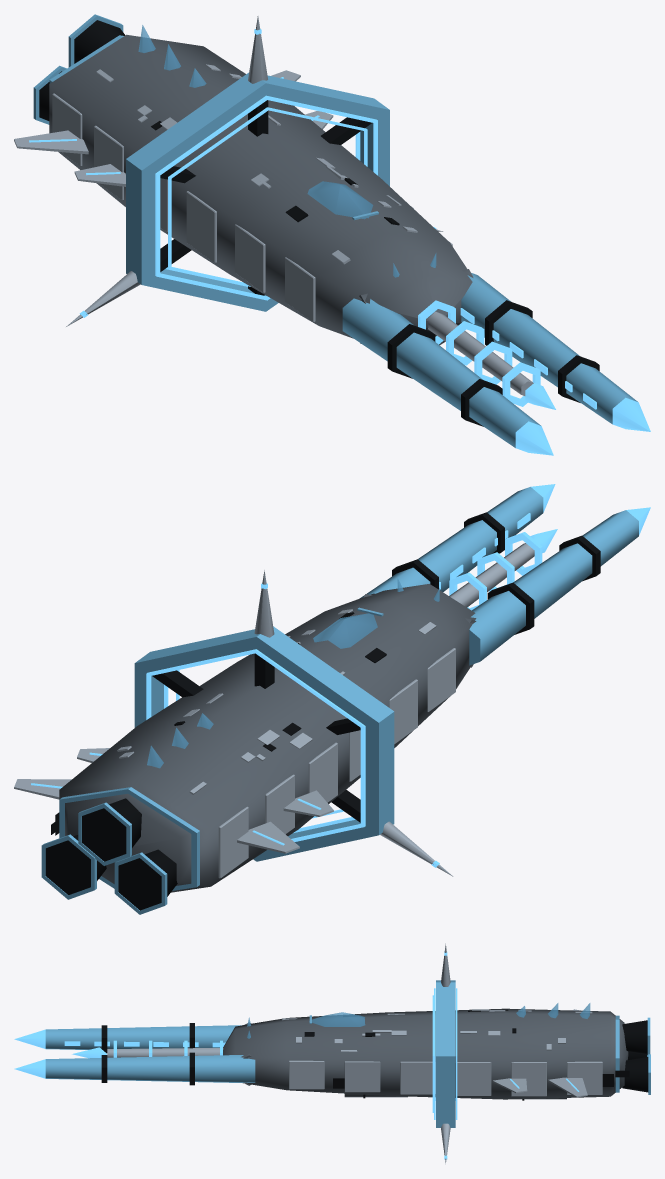
Rendered from kamerton-rezonanci-trade-12-lod0.glb.
3 renders of one model, top to bottom at view 1: azimuth 30°, elevation 25°; view 2: azimuth 150°, elevation 25°; view 3: azimuth 270°, elevation 25°, orthographic. The views are drawn at different scales.
Bounding box in the file's own units: 12.9 × 9.47 × 29.95.
